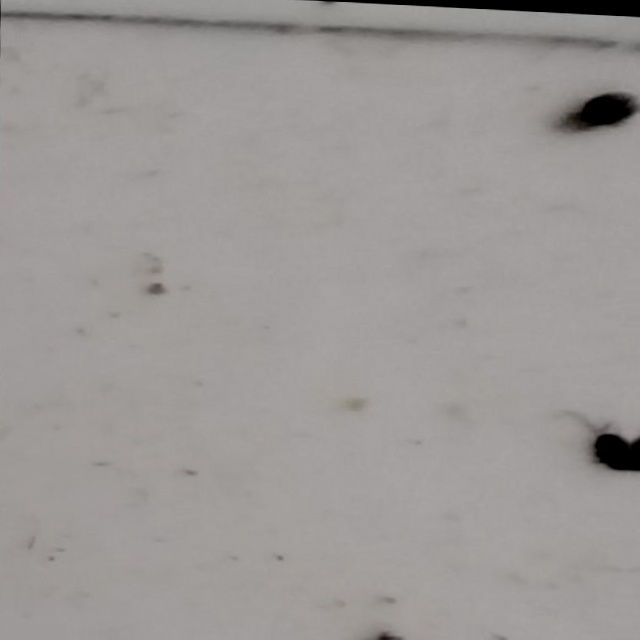varroa: (591, 431, 629, 469)
